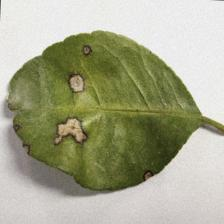canker: (52, 44, 155, 180)
